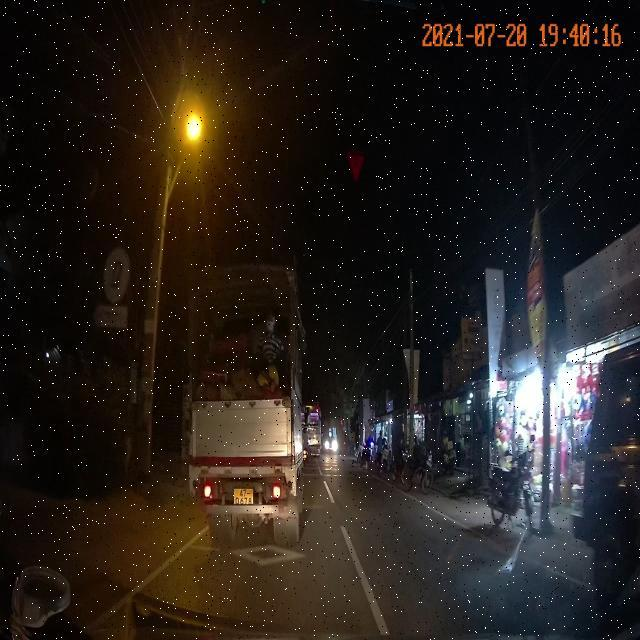diamond: (140, 538, 370, 590)
